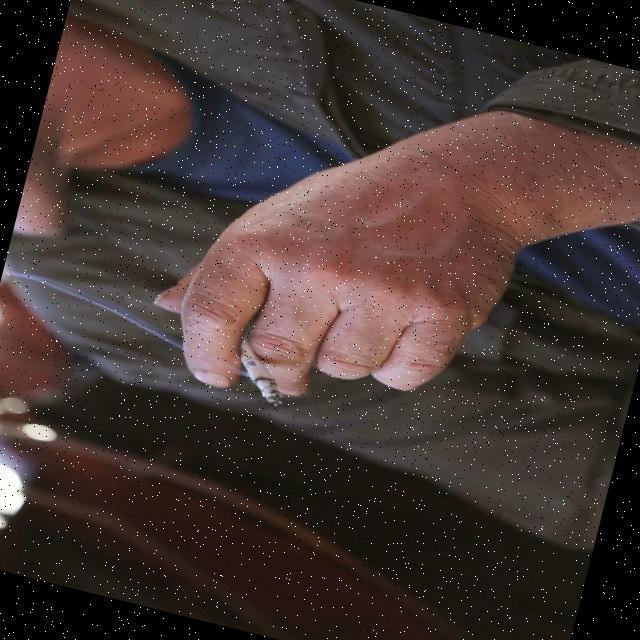cigarette: (224, 340, 294, 408)
